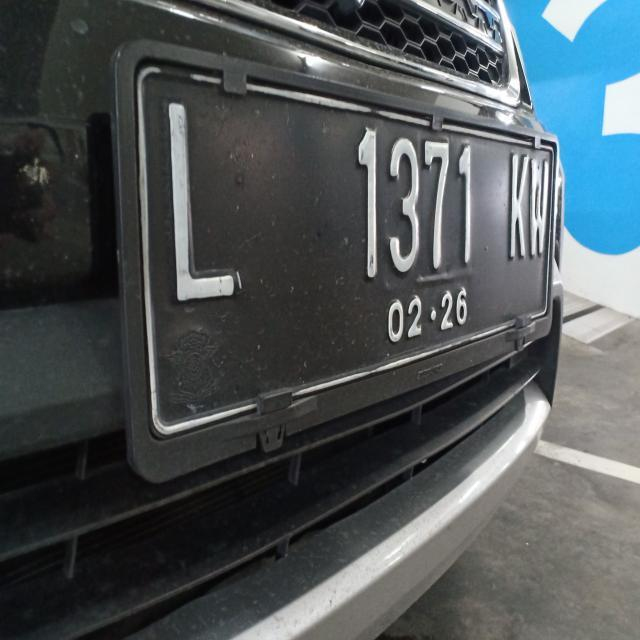1: (344, 117, 381, 290), (451, 138, 478, 270)
3: (382, 133, 422, 275)
7: (422, 132, 452, 276)
K: (506, 148, 528, 262)
L: (156, 94, 244, 312)
W: (528, 154, 550, 262)
